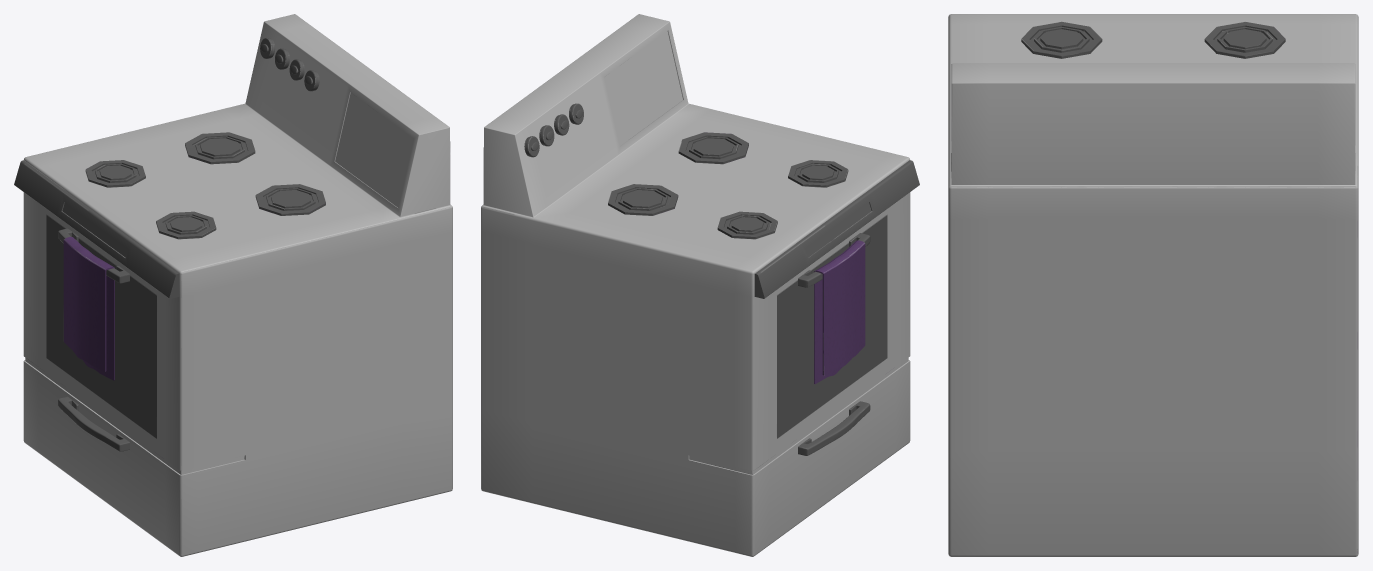
File: Oven.001.fbx
3 renders of one model, left to right at view 1: azimuth 30°, elevation 25°; view 2: azimuth 150°, elevation 25°; view 3: azimuth 270°, elevation 25°, orthographic. The views are drawn at different scales.
Visible parts, largest first — view 1: Oven.001_Baked; view 2: Oven.001_Baked; view 3: Oven.001_Baked.
Part boxes in pixels (box(x1,y1,x2,y2)): Oven.001_Baked: box(14, 14, 452, 556); Oven.001_Baked: box(481, 14, 919, 556); Oven.001_Baked: box(948, 14, 1358, 556).
Size of the model in its own units: 107 by 127 by 100.
Materials: 1 (1 with a texture image).
